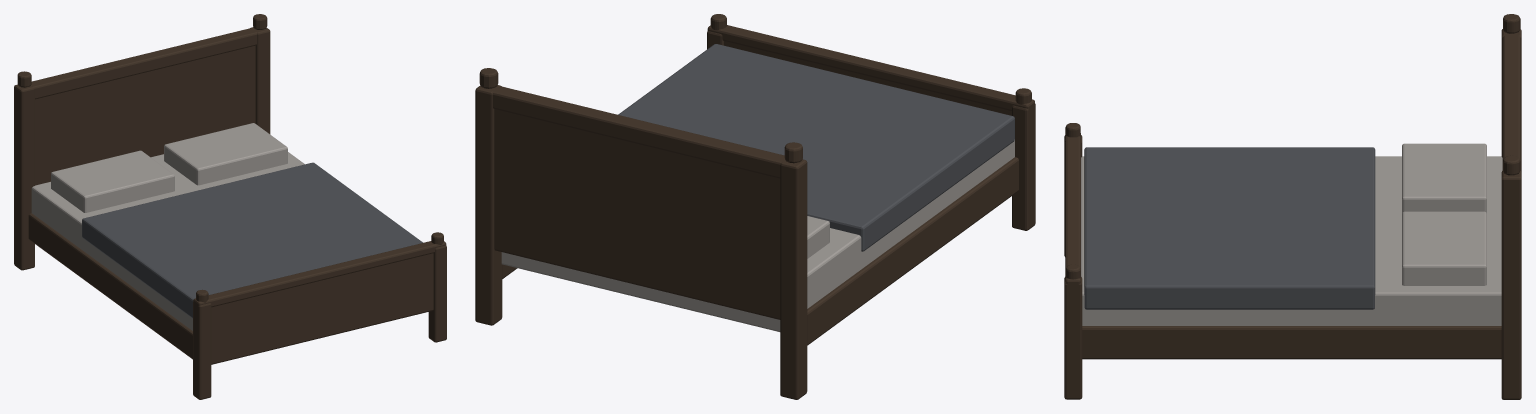
File: SM_Furniture_Bed_01.glb
3 views of the same model, side by side, from view 1: azimuth 30°, elevation 25°; view 2: azimuth 150°, elevation 25°; view 3: azimuth 270°, elevation 25° (orthographic). The views are drawn at different scales.
Visible parts, largest first — view 1: SM_Furniture_Bed_01; view 2: SM_Furniture_Bed_01; view 3: SM_Furniture_Bed_01.
Part boxes in pixels (x1=…): SM_Furniture_Bed_01: x1=14, y1=14, x2=446, y2=399; SM_Furniture_Bed_01: x1=475, y1=14, x2=1035, y2=399; SM_Furniture_Bed_01: x1=1064, y1=14, x2=1521, y2=399.
Bounding box in the file's own units: 1.59 × 1.17 × 2.05.
